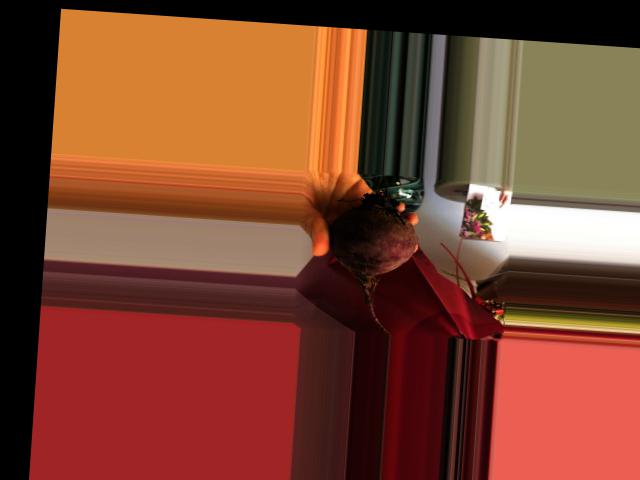beet: (323, 171, 422, 335)
